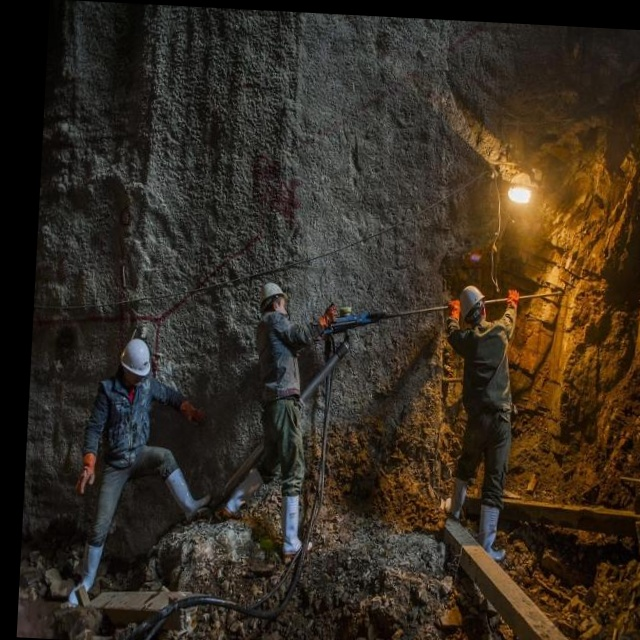Con_Casco: (118, 338, 152, 385), (459, 286, 485, 326), (259, 280, 289, 313)
Sin_Chaleco: (460, 322, 513, 422)
